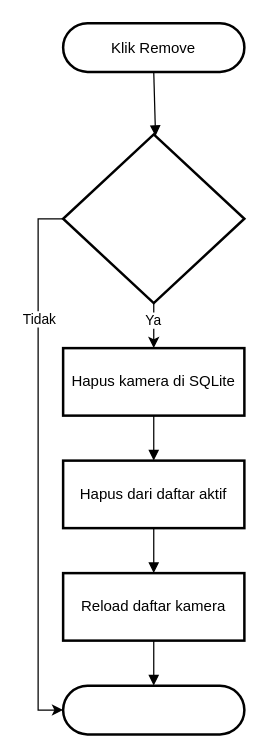
This 266x756 diagram has some shape labels left out. Each missing label, with the centre of its shape:
Konfirmasi?: [153,218]
Selesai Remove Camera: [153,709]
